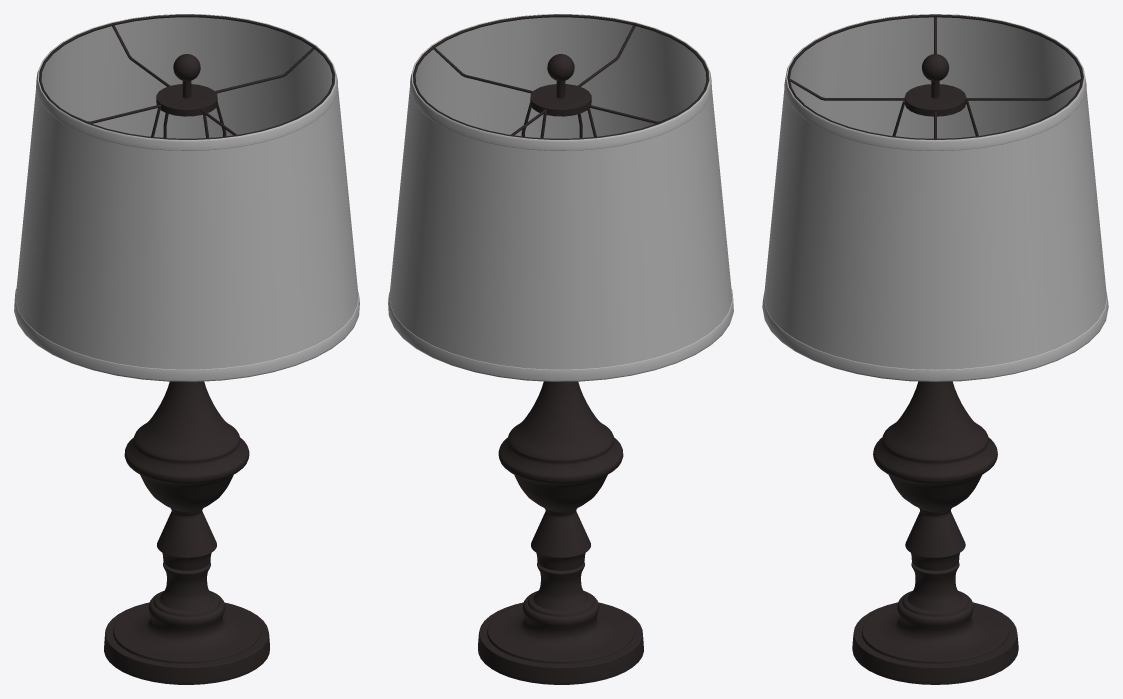
File: abo-B07DBCN4C2.glb
3 views of the same model, side by side, from view 1: azimuth 30°, elevation 25°; view 2: azimuth 150°, elevation 25°; view 3: azimuth 270°, elevation 25° (orthographic).
Bounding box in the file's own units: 0.383 × 0.726 × 0.383.
Materials: 1 (1 with a texture image).
